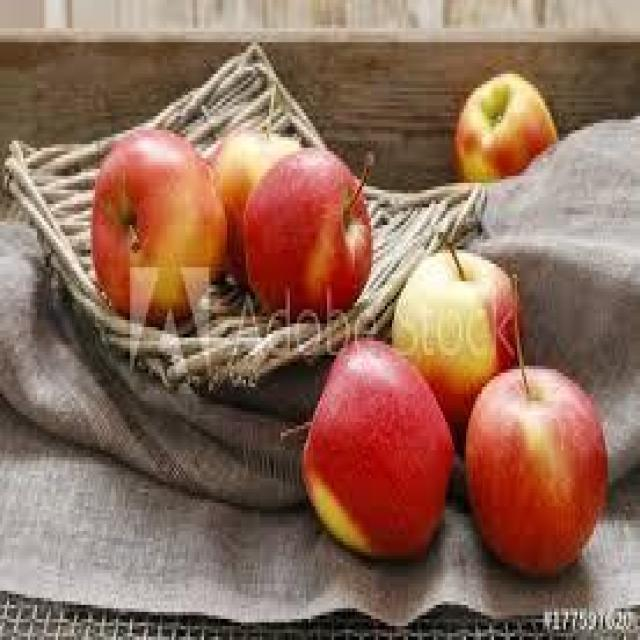maca: (299, 334, 455, 559), (88, 123, 227, 324), (390, 243, 520, 429), (241, 144, 371, 320)
